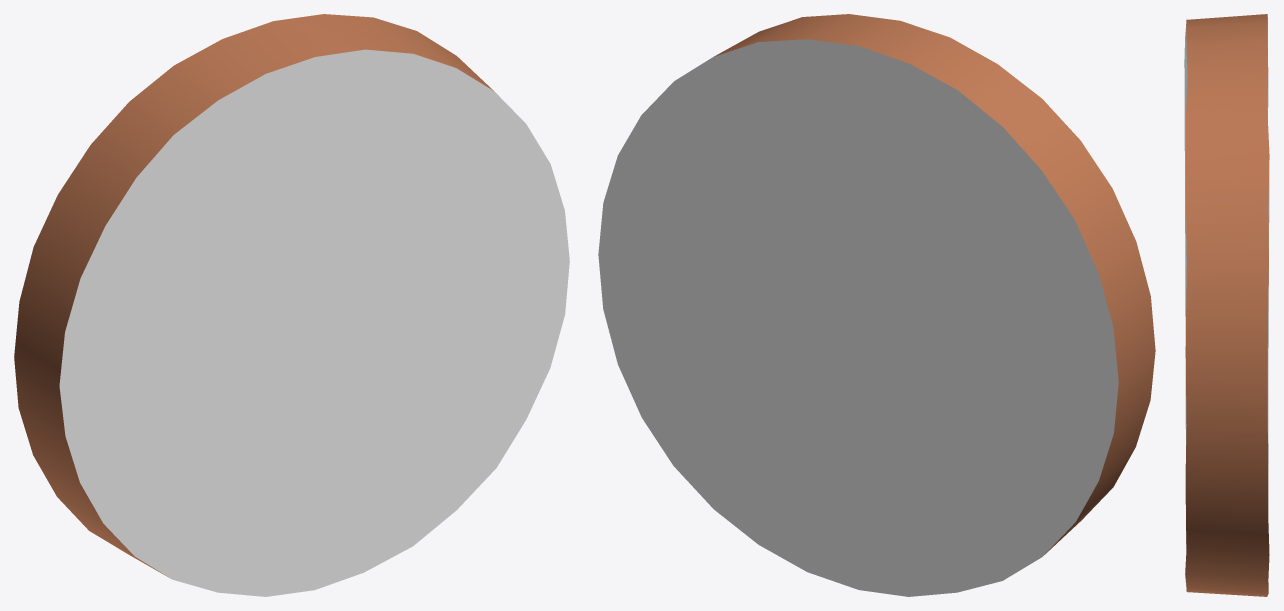
File: Kiwi_Slice.fbx
The picture shows the model from 3 angles, left to right: view 1: azimuth 30°, elevation 25°; view 2: azimuth 150°, elevation 25°; view 3: azimuth 270°, elevation 25°; orthographic projection. The views are drawn at different scales.
Visible parts, largest first — view 1: Sphere.018; view 2: Sphere.018; view 3: Sphere.018.
Part boxes in pixels (bbox=[...]): Sphere.018: bbox=[14, 14, 569, 596]; Sphere.018: bbox=[598, 14, 1155, 596]; Sphere.018: bbox=[1184, 14, 1269, 596].
Size of the model in its own units: 94.35 by 94.43 by 13.77.
